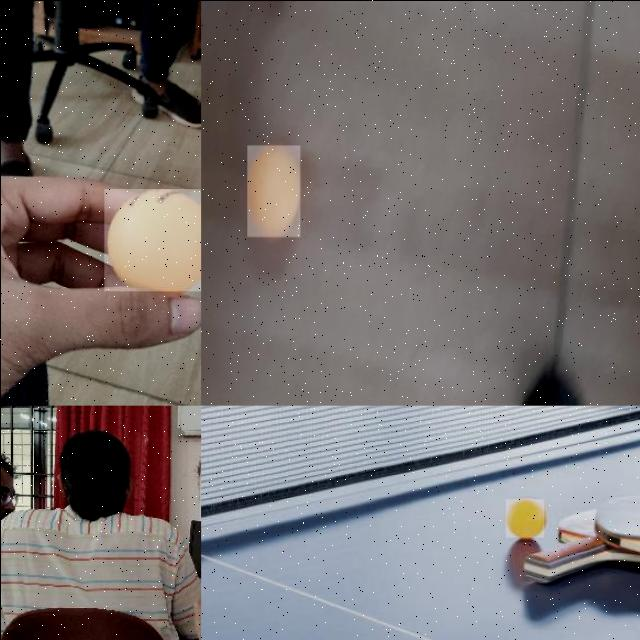ping-pong-ball: (103, 186, 199, 292), (247, 144, 300, 238), (506, 498, 544, 538)
